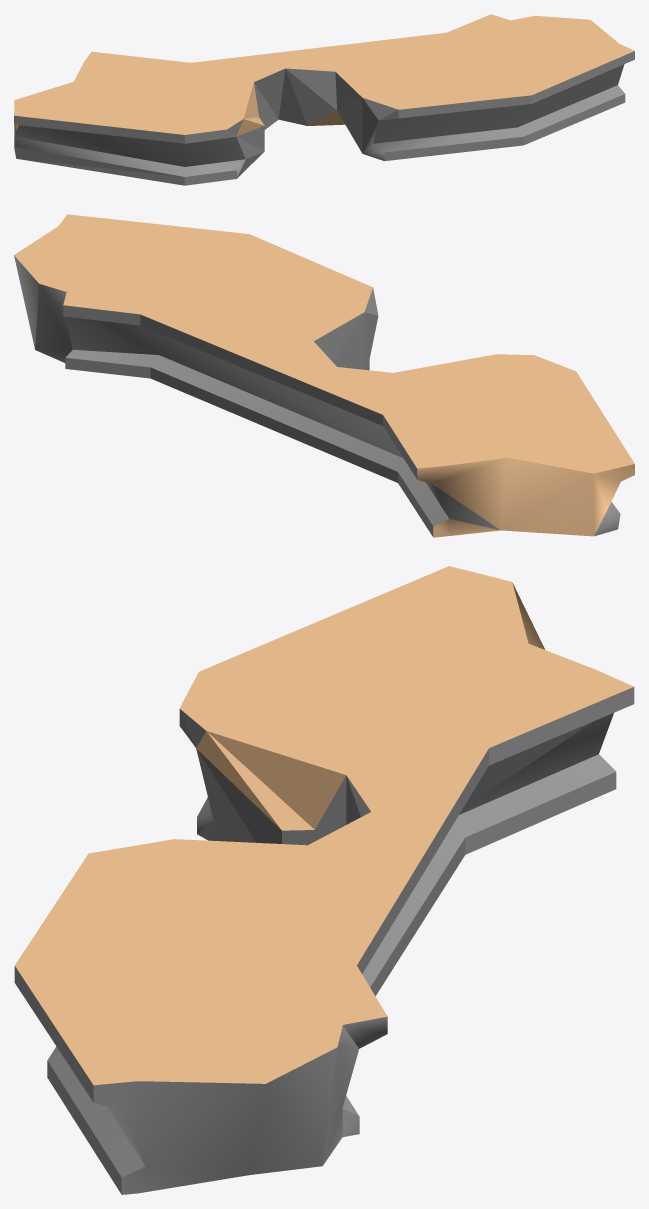
3 renders of one model, top to bottom at view 1: azimuth 30°, elevation 25°; view 2: azimuth 150°, elevation 25°; view 3: azimuth 270°, elevation 25°, orthographic. The views are drawn at different scales.
Visible parts, largest first — view 1: O_E_WT_R01; view 2: O_E_WT_R01; view 3: O_E_WT_R01.
Part boxes in pixels (<box>): O_E_WT_R01: <box>14,14,634,185</box>; O_E_WT_R01: <box>14,214,634,537</box>; O_E_WT_R01: <box>14,566,634,1194</box>.
Size of the model in its own units: 3.67 by 0.3699 by 1.85.
